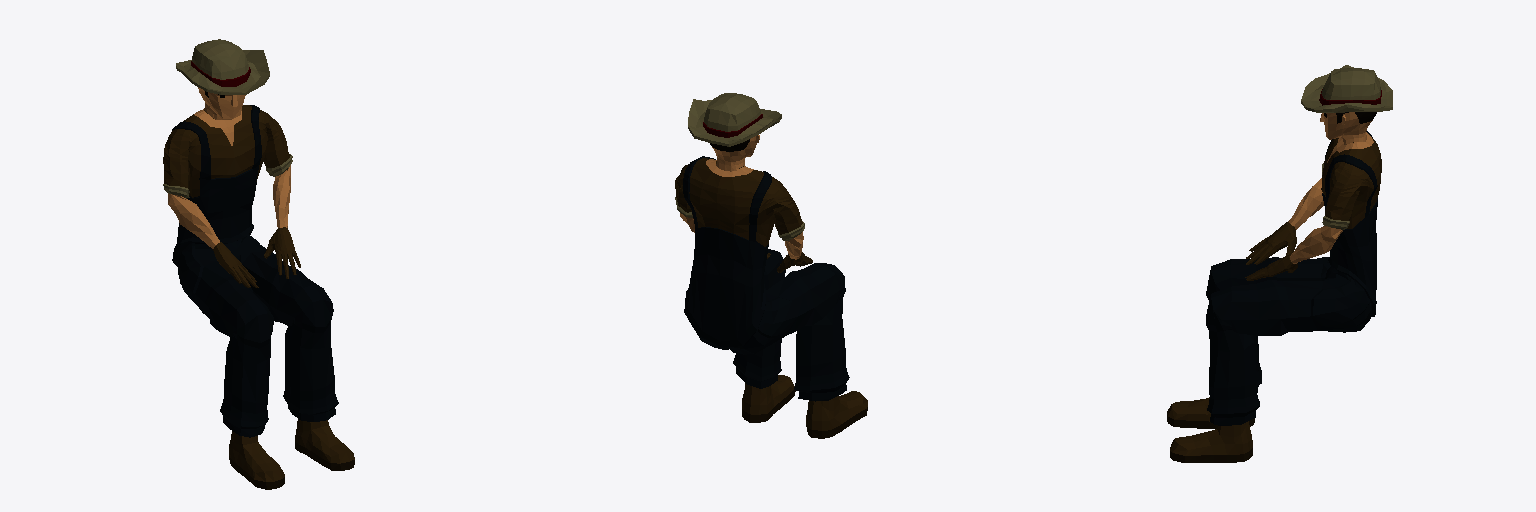
Rendered from m_farmer.obj.
The picture shows the model from 3 angles: view 1: azimuth 30°, elevation 25°; view 2: azimuth 150°, elevation 25°; view 3: azimuth 270°, elevation 25°; orthographic projection.
Parts seen in each view (by area): view 1: Farmer_Pants, Farmer_Body, Farmer_Head, Farmer_Feet; view 2: Farmer_Body, Farmer_Pants, Farmer_Head, Farmer_Feet; view 3: Farmer_Pants, Farmer_Body, Farmer_Head, Farmer_Feet.
Boxes of the visible parts, x1,y1,x2,y2 form: Farmer_Pants: [177, 234, 338, 437]; Farmer_Body: [163, 105, 300, 287]; Farmer_Head: [176, 39, 269, 119]; Farmer_Feet: [229, 419, 354, 489]; Farmer_Body: [675, 156, 812, 346]; Farmer_Pants: [698, 249, 849, 401]; Farmer_Head: [688, 93, 781, 171]; Farmer_Feet: [742, 375, 867, 438]; Farmer_Pants: [1206, 257, 1371, 425]; Farmer_Body: [1245, 131, 1381, 316]; Farmer_Head: [1301, 65, 1392, 144]; Farmer_Feet: [1167, 397, 1254, 462].
Bounding box in the file's own units: 0.4818 × 1.34 × 0.7433.